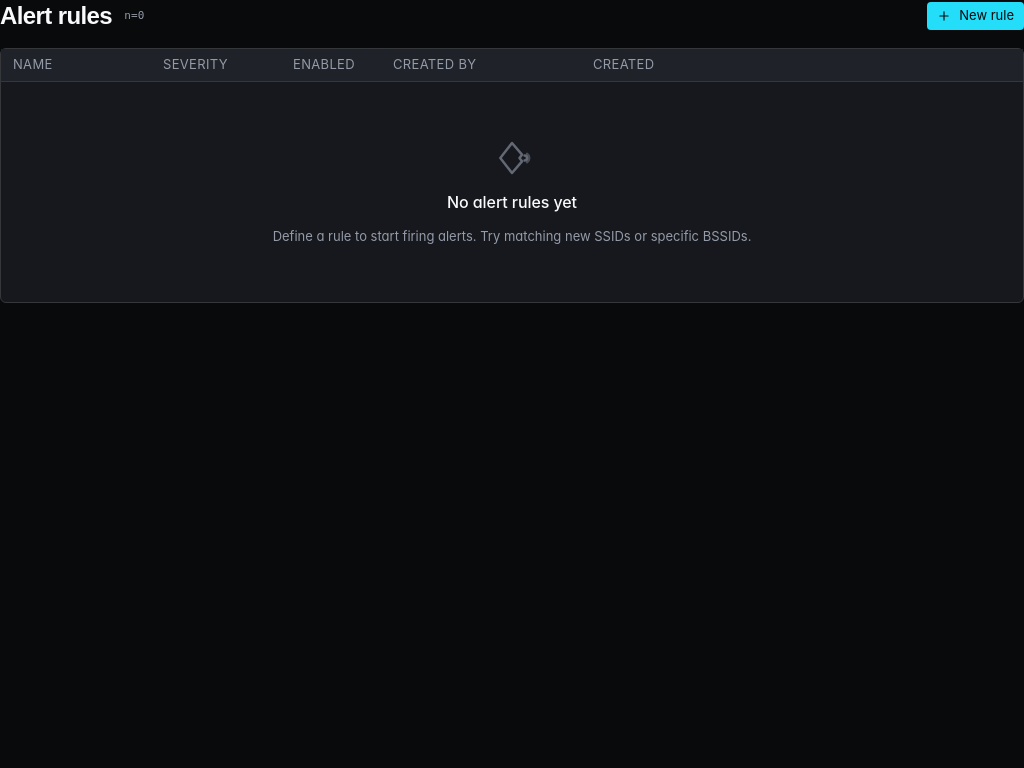
AlertRulesView › rejects a non-JSON predicate without firing the mutation
The image size is (1024, 768).
Click the button "New rule" at (976, 16), box x1=927 y1=2 x2=1023 y2=30
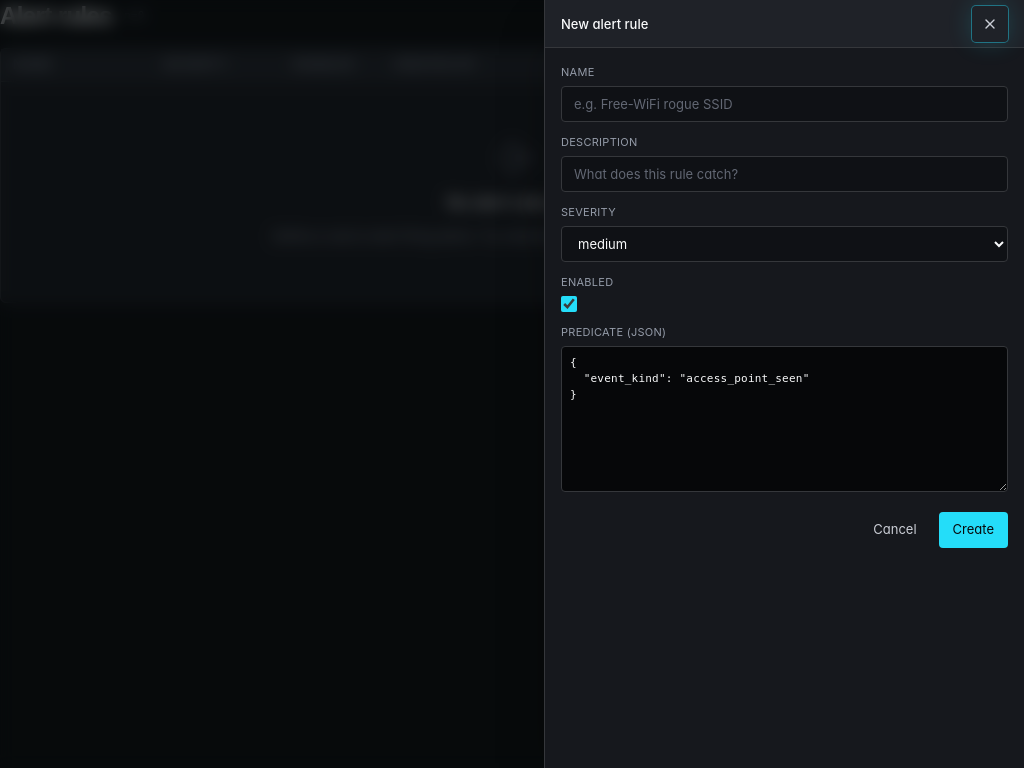
Replace the text in the text box labelled "Predicate (JSON)" with "not-json" at (784, 419), box x1=561 y1=346 x2=1008 y2=492
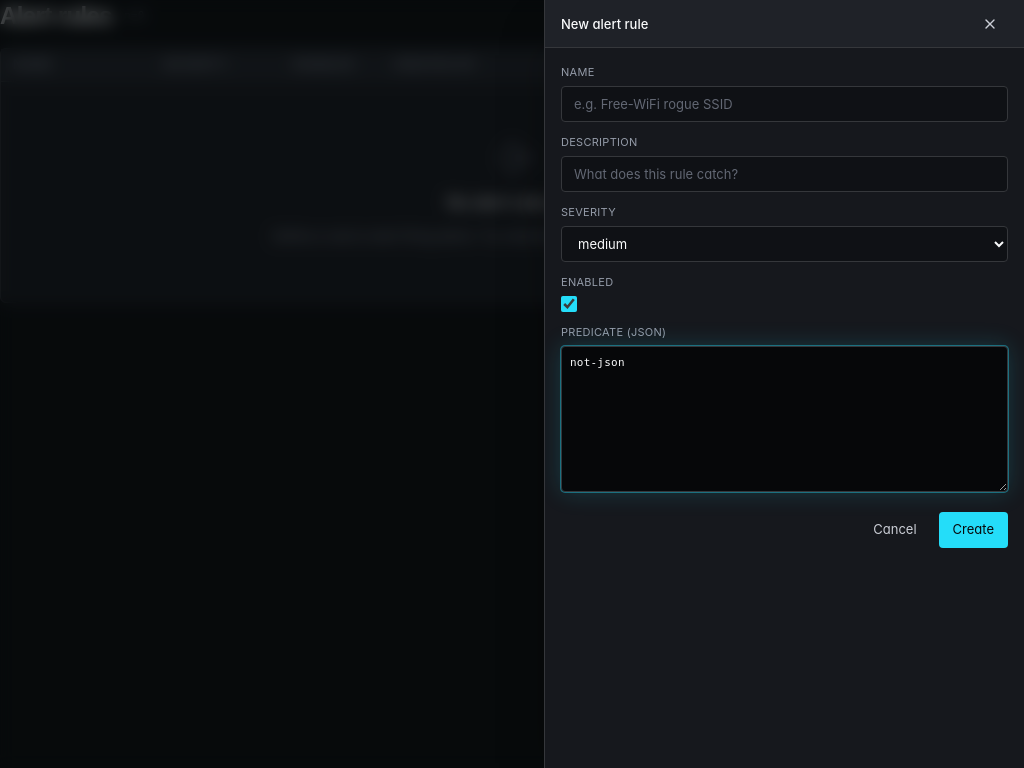
Type "Bad" into the field labelled "Name" at (784, 104), box x1=561 y1=86 x2=1008 y2=122
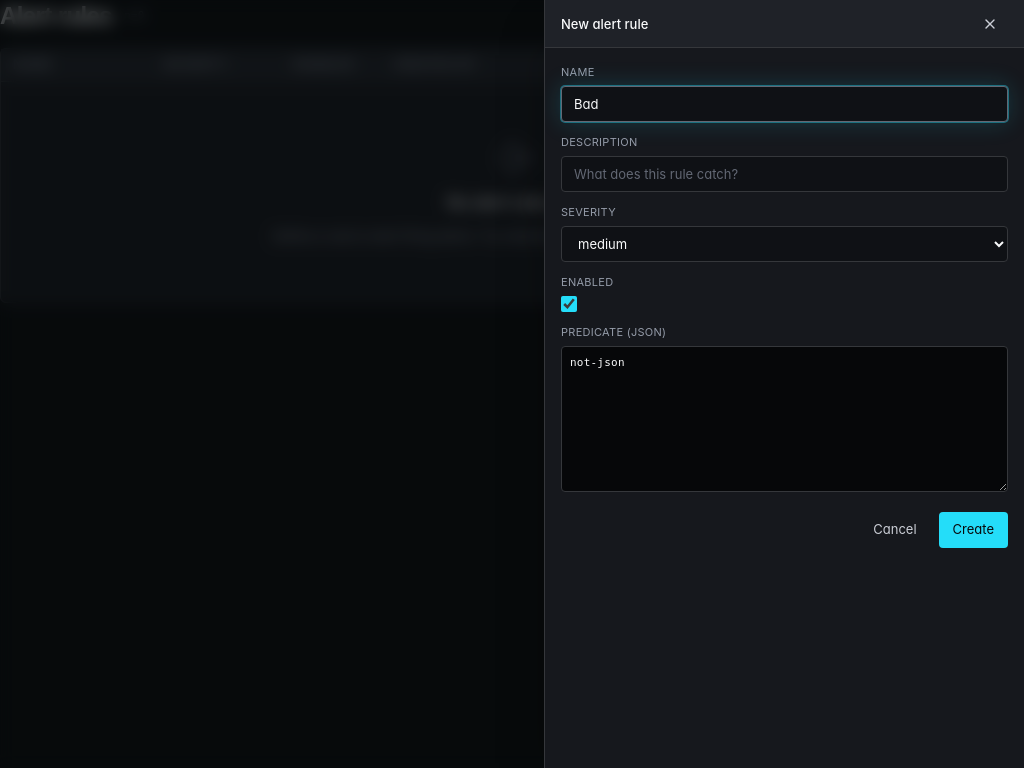
Click the button "Create" at (973, 530), box x1=939 y1=512 x2=1008 y2=548
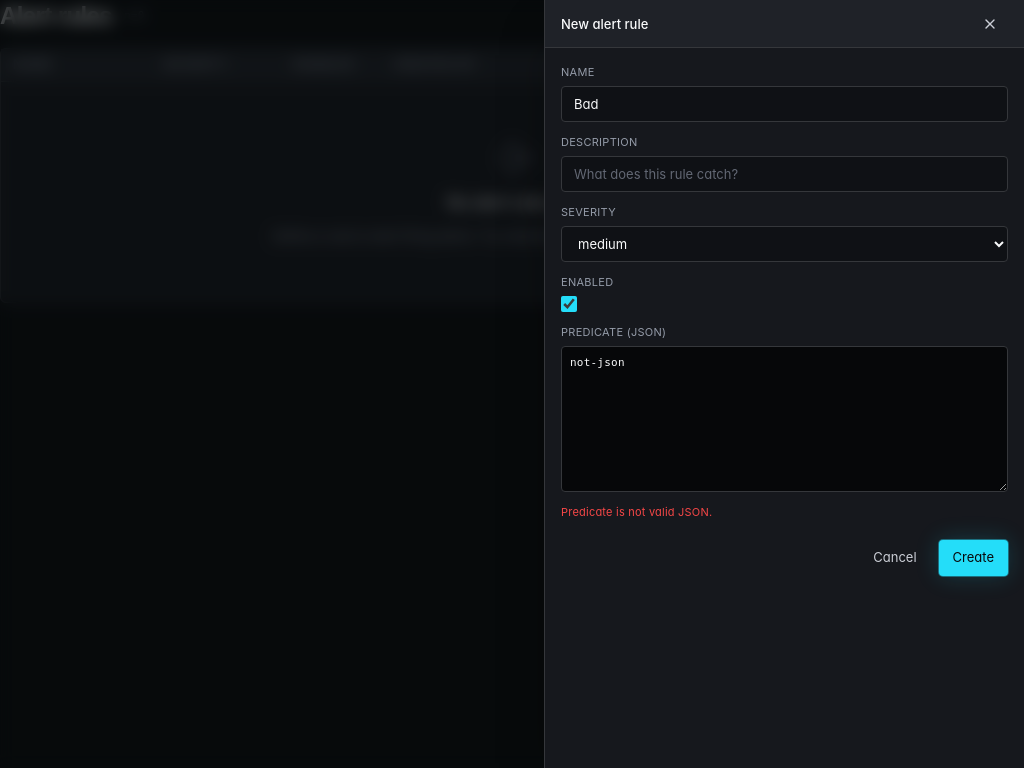
Expected: the text "Predicate is not valid JSON." is shown, x1=561 y1=505 x2=712 y2=519
